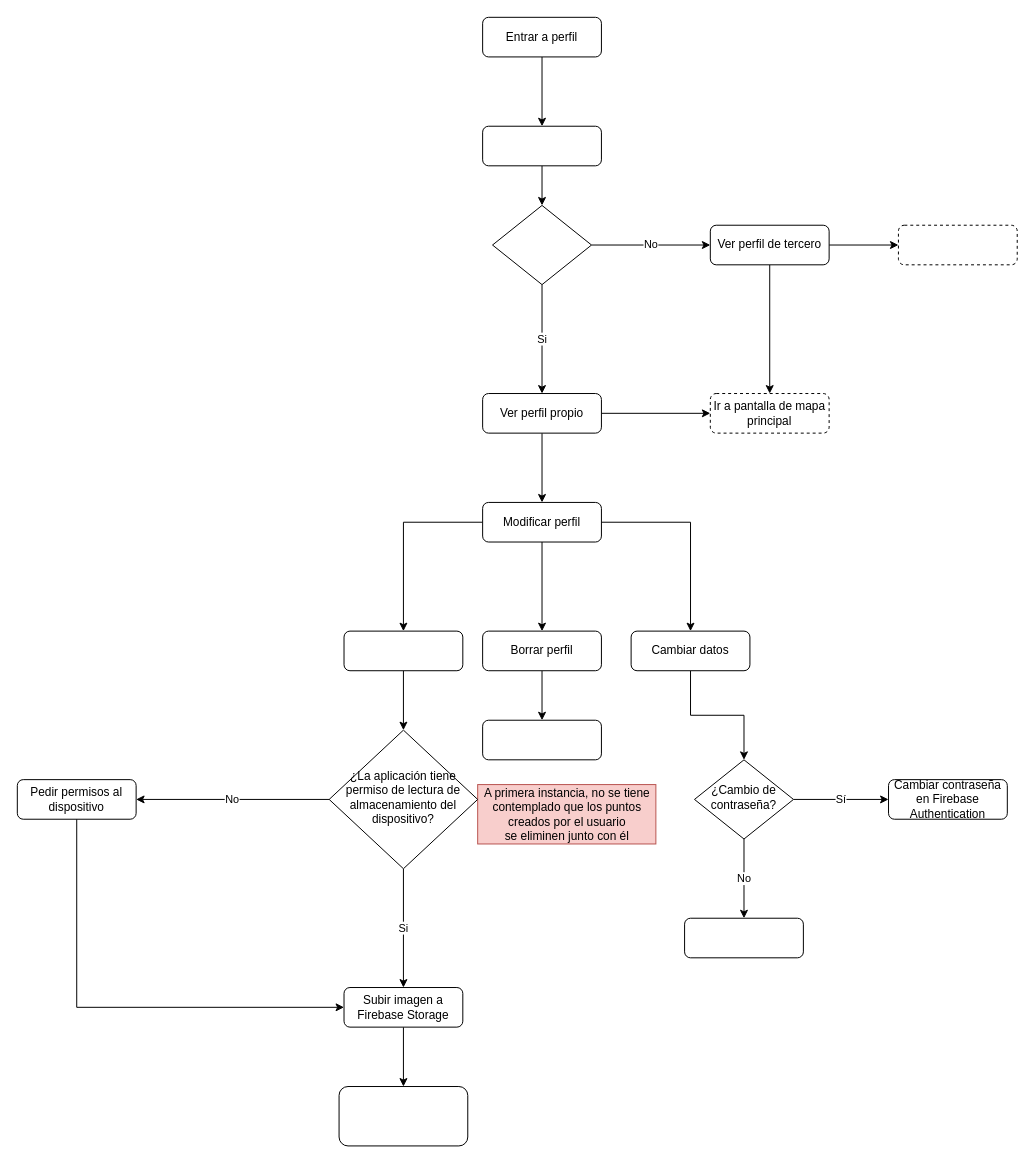
Image size: 1035x1163. Some labels were removed from this diagram. Each missing label, with the box of its shape:
Actualizar datos en la BBDD de usuario: (684, 917, 803, 958)
Eliminar usuario de la BBDD: (482, 719, 601, 760)
Guardar url de imagen en el objeto correspondiente al usuario en la BBDD: (338, 1086, 468, 1146)
Leer datos de usuario en la BBDD según ID: (482, 125, 601, 166)
Reportar perfil: (897, 224, 1017, 265)
Subir o cambiar foto de perfil: (343, 630, 463, 671)
¿Perfil pertenece al usuario?: (492, 204, 592, 285)
